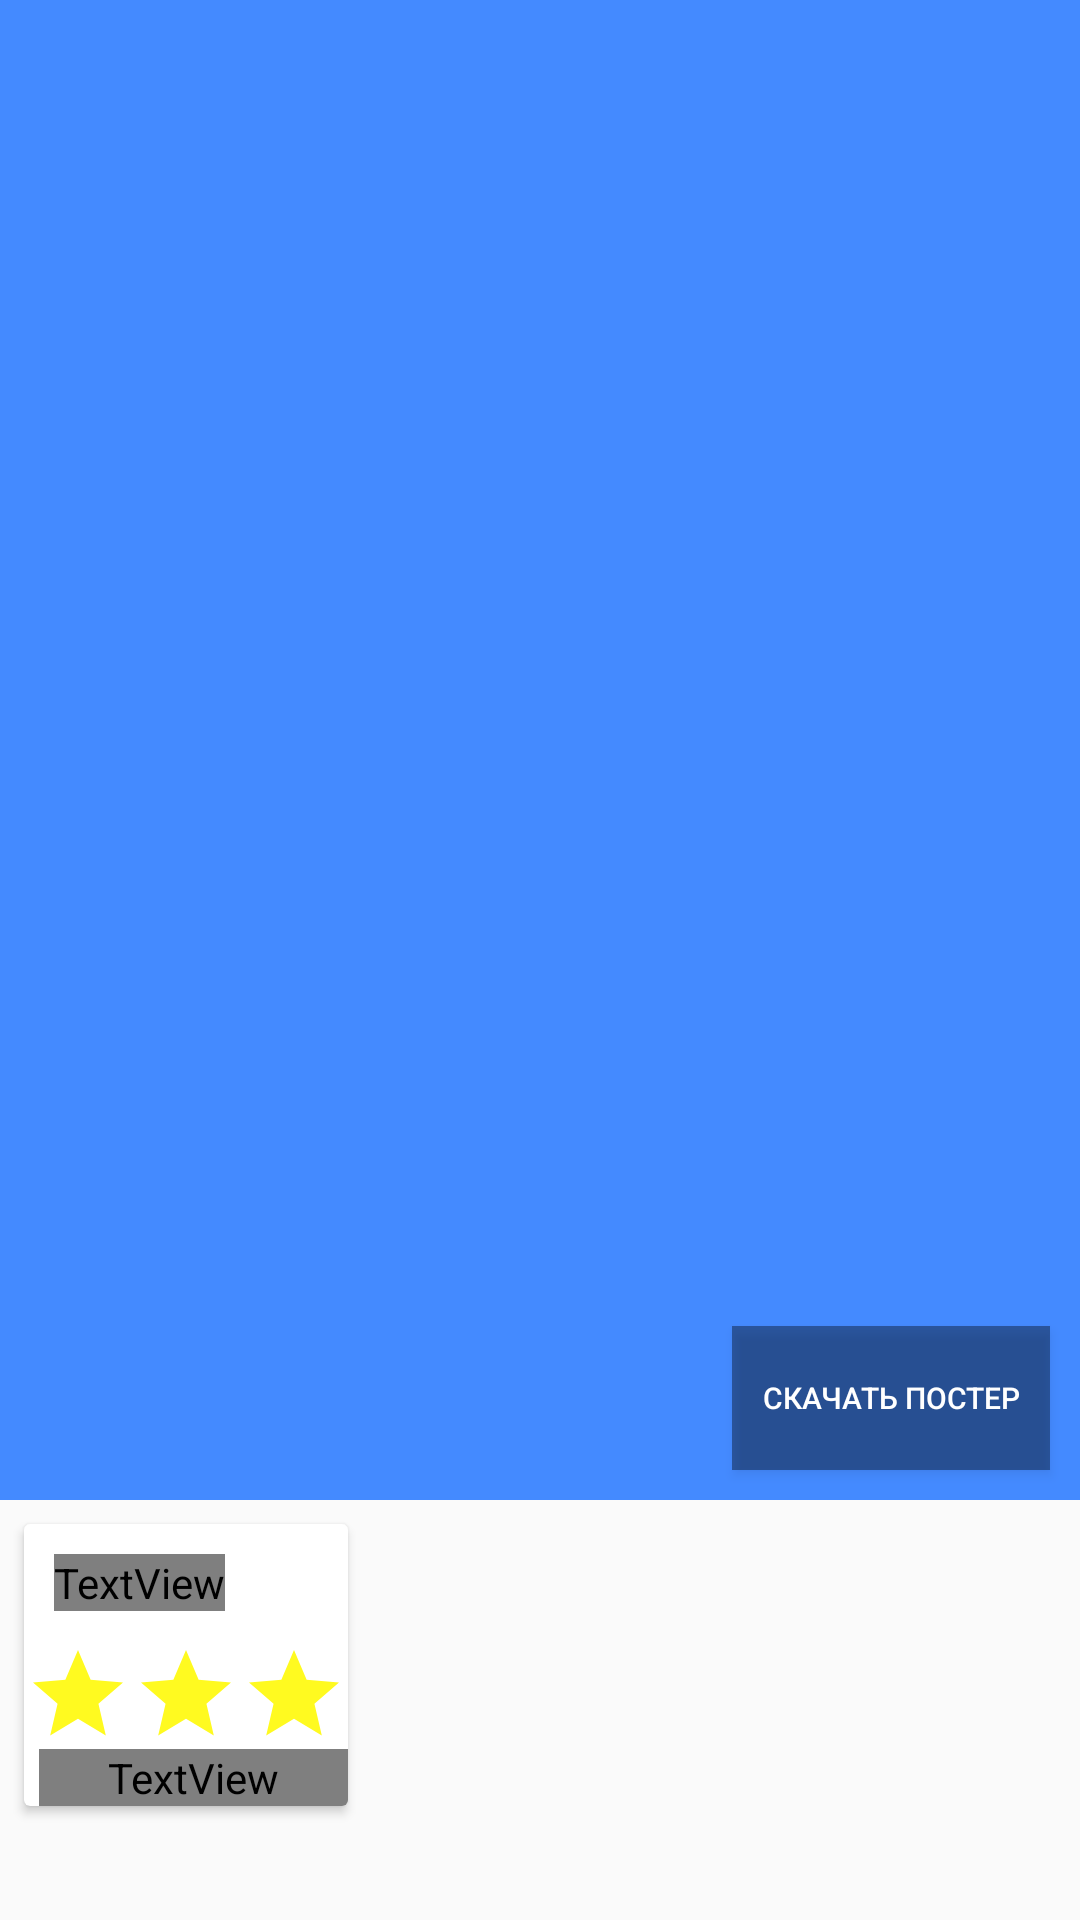

Named icons in this screenshot (1080 × 1920) and their centers, point (x, y):
star: point (78, 1693), point (186, 1693), point (294, 1693)
